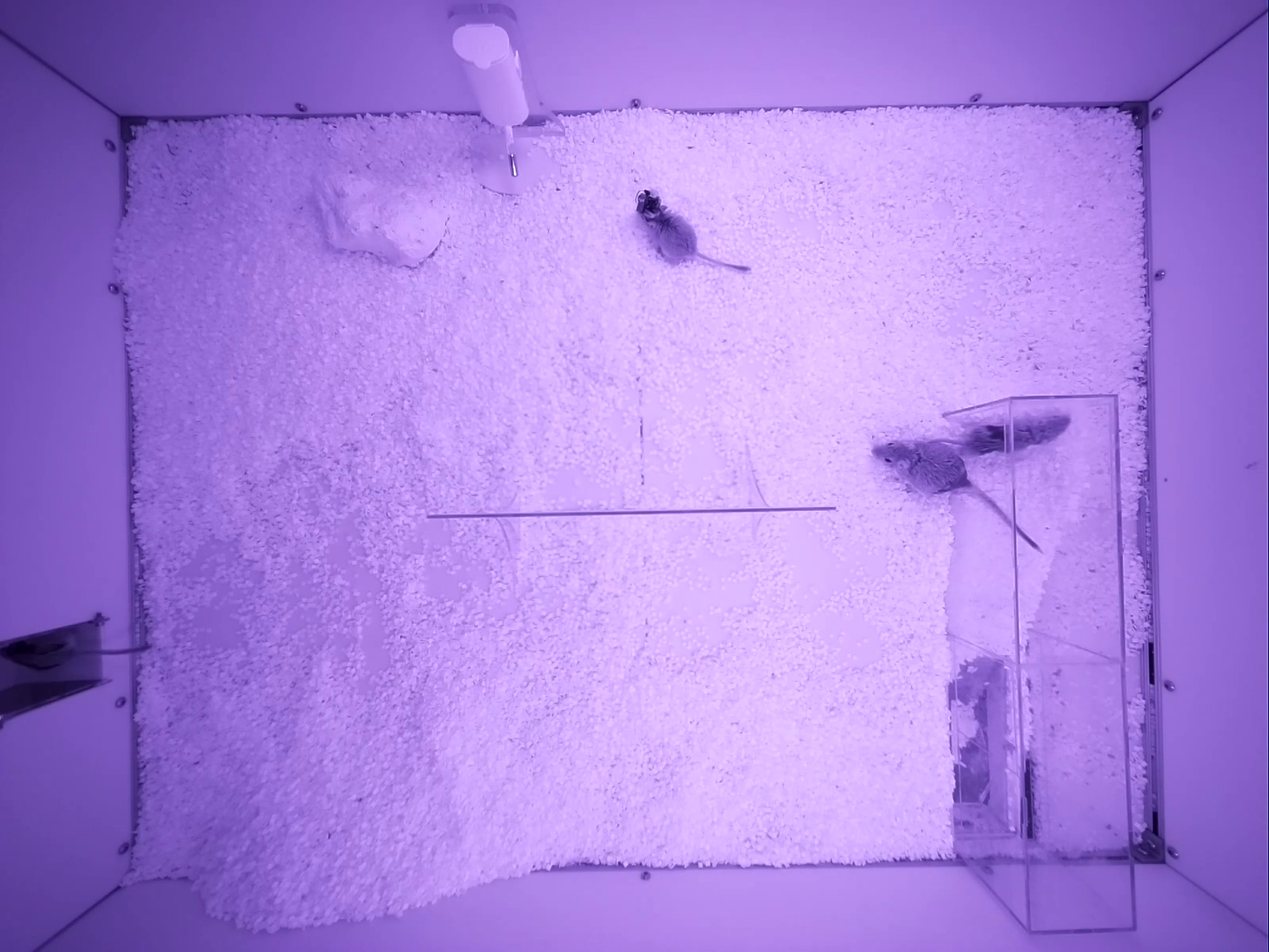adult_back: (873, 441, 1039, 551), (638, 190, 750, 271), (1012, 413, 1070, 451)
